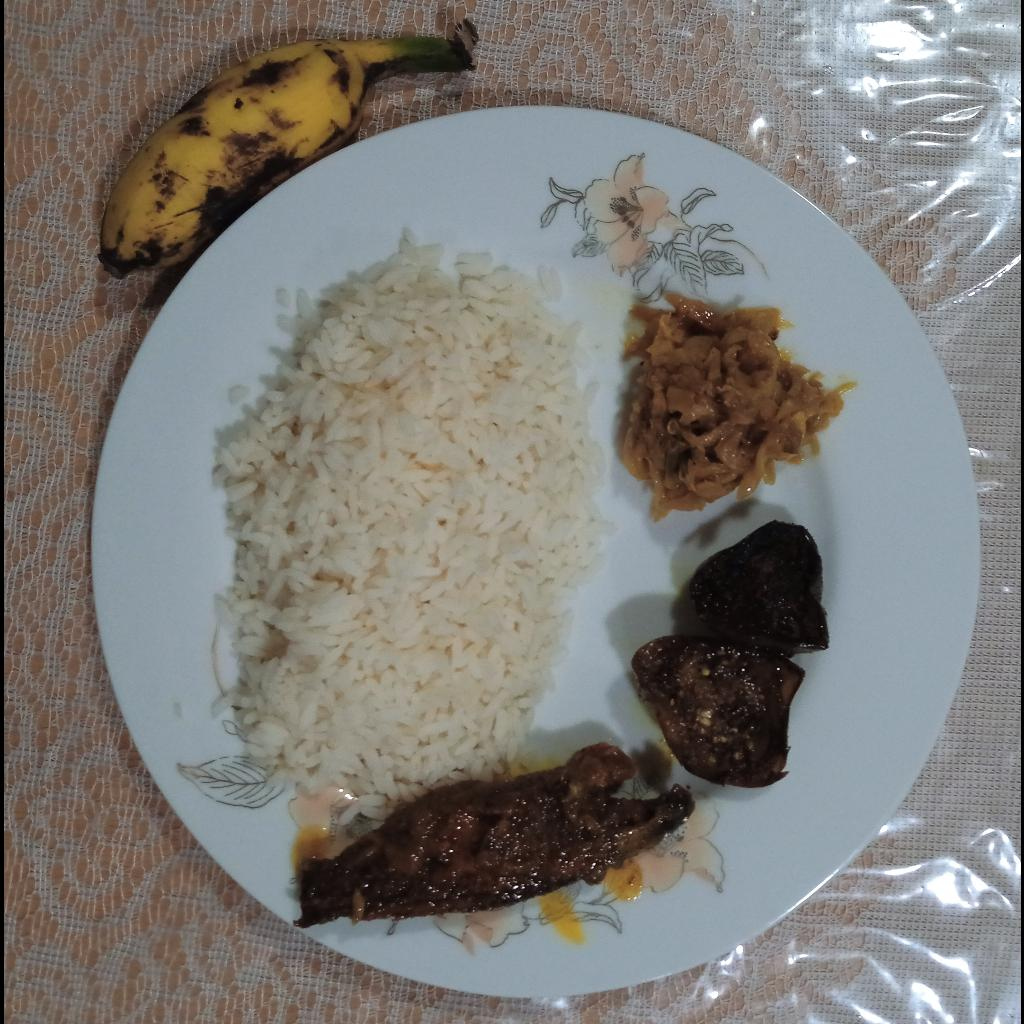banana: (99, 36, 410, 278)
begun-vaji: (630, 519, 834, 787)
cabbage: (621, 292, 843, 524)
fish: (299, 740, 699, 927)
rice: (197, 227, 619, 826)
